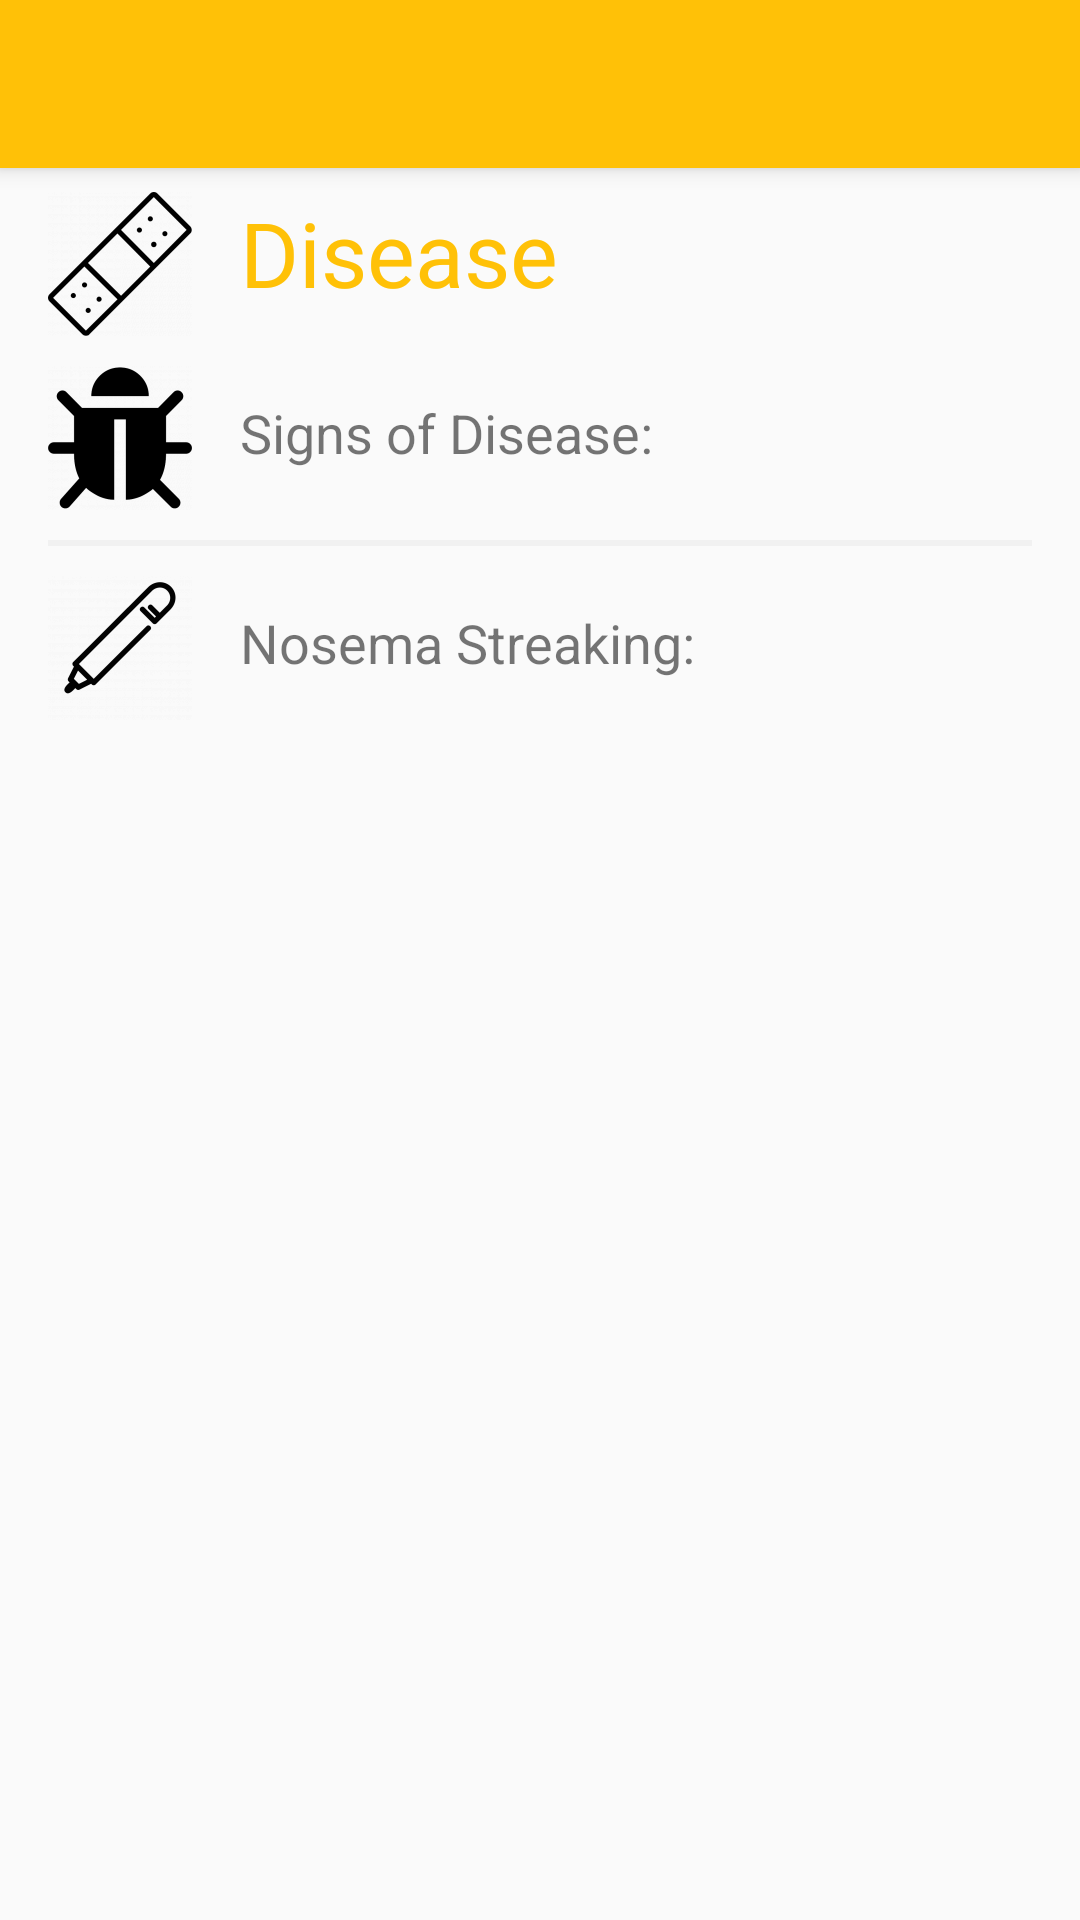

Screen size 1080px x 1920px. Icon name, then its box in pixels as (x1, y1, x2, y2):
pencil: (64, 582, 176, 694)
pest: (48, 367, 192, 509)
